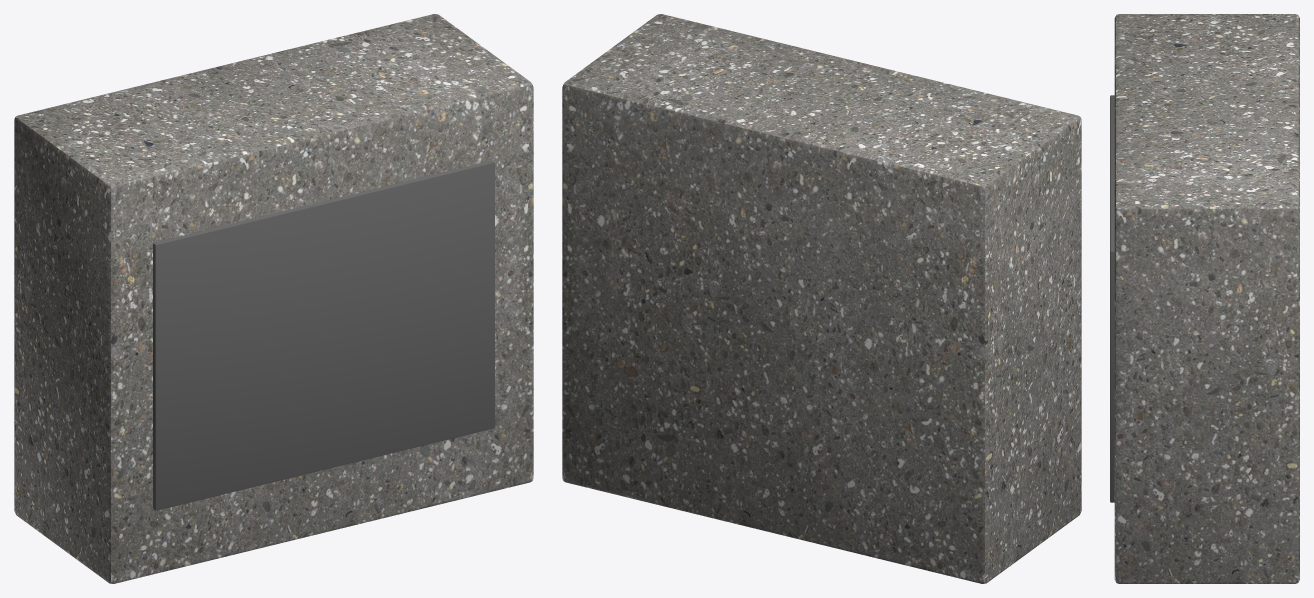
Rendered from SER-LIG-002_anim.glb.
The picture shows the model from 3 angles, left to right: view 1: azimuth 30°, elevation 25°; view 2: azimuth 150°, elevation 25°; view 3: azimuth 270°, elevation 25°; orthographic projection. The views are drawn at different scales.
Visible parts, largest first — view 1: SER-LIG-002_anim0; view 2: SER-LIG-002_anim0; view 3: SER-LIG-002_anim0.
Part boxes in pixels (left/top/right/bottom): SER-LIG-002_anim0: left=14, top=14, right=533, bottom=583; SER-LIG-002_anim0: left=562, top=14, right=1081, bottom=583; SER-LIG-002_anim0: left=1110, top=14, right=1299, bottom=583.
Bounding box in the file's own units: 1 × 0.9 × 0.41.
7 materials, 2 textured.
